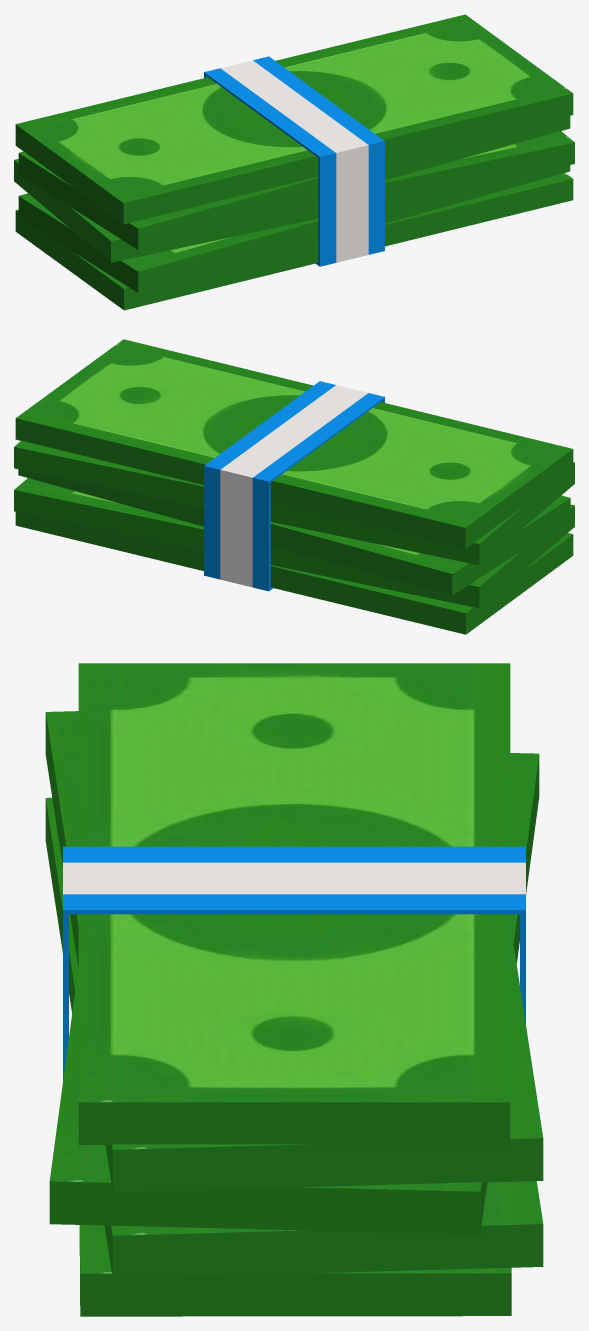
Rendered from Dollar.FBX.
3 renders of one model, top to bottom at view 1: azimuth 30°, elevation 25°; view 2: azimuth 150°, elevation 25°; view 3: azimuth 270°, elevation 25°, orthographic. The views are drawn at different scales.
Visible parts, largest first — view 1: Dollars-1; view 2: Dollars-1; view 3: Dollars-1.
Part boxes in pixels (bbox=[...]): Dollars-1: bbox=[14, 14, 574, 310]; Dollars-1: bbox=[14, 339, 574, 634]; Dollars-1: bbox=[45, 663, 543, 1316].
Size of the model in its own units: 36.31 by 8.27 by 16.98.
Materials: 1 (1 with a texture image).
